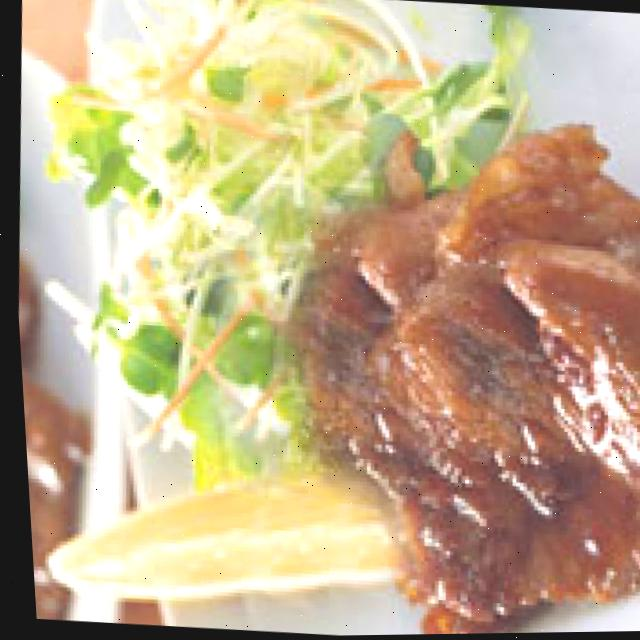猪肉菜式: (219, 90, 640, 638)
